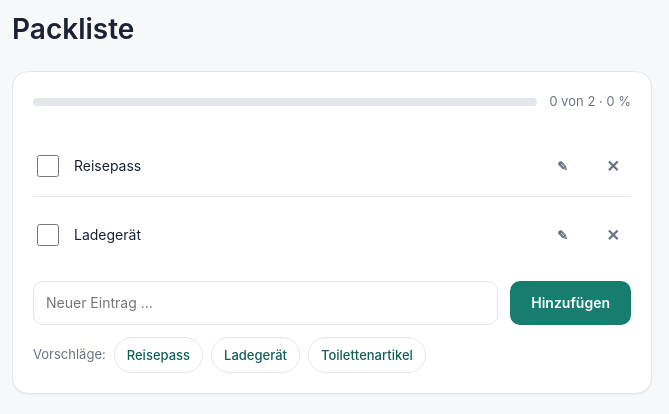
Test case: PackingListPage check-off flow › renames an item inline
The width and height of the screenshot is (669, 414).
Click the button named "Reisepass umbenennen" at (563, 166), box [542, 148, 583, 184]
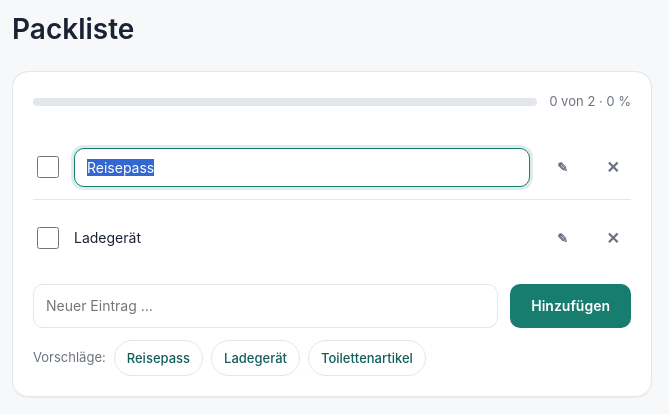
Replace the text in the field named "Eintrag umbenennen" with "Reisepass & Visum" at (302, 167), box [74, 148, 530, 186]
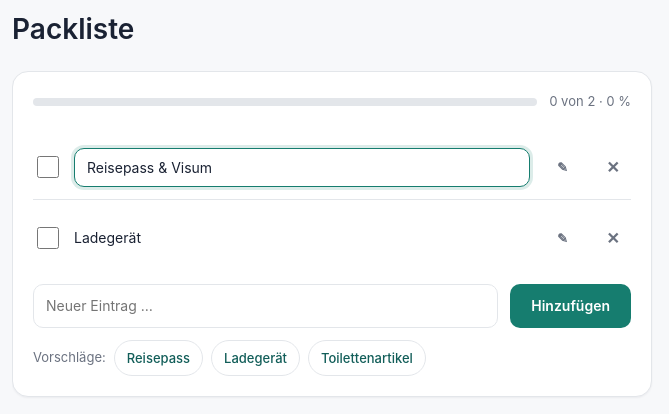
Press Enter
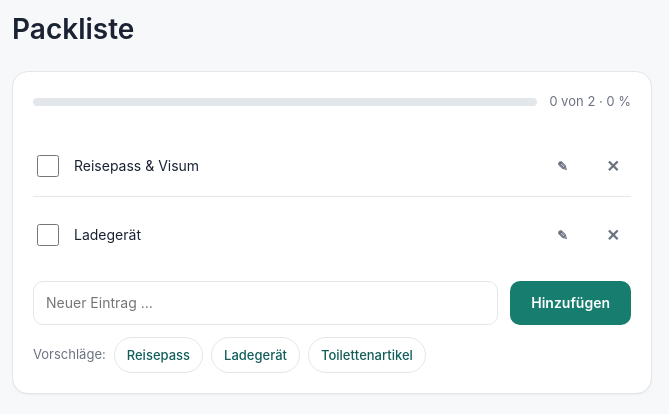
Expected: the text "Reisepass & Visum" is shown, [74, 157, 199, 174]
